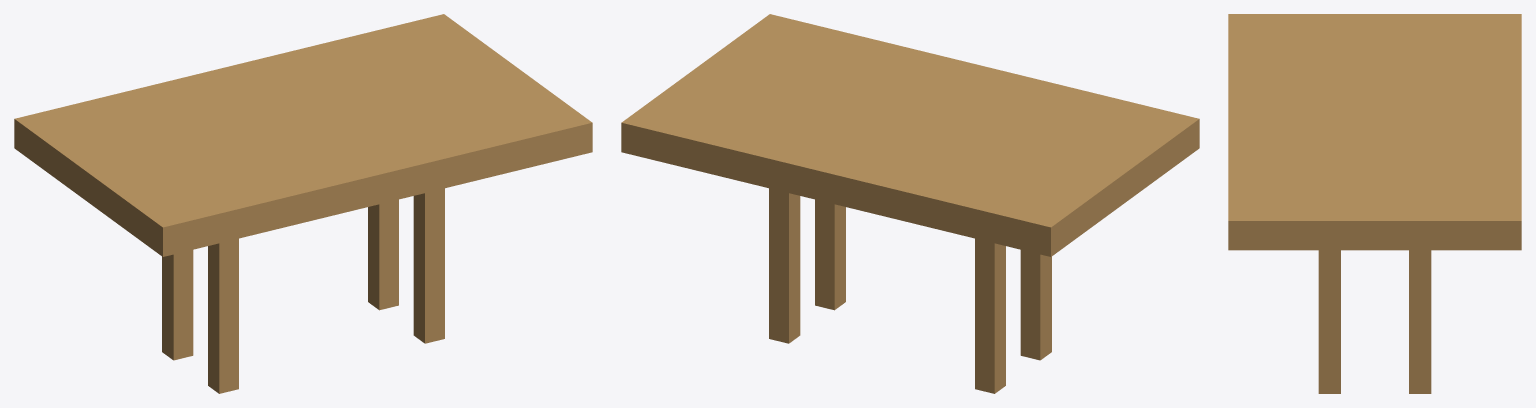
Rendered from Demo.obj.
The picture shows the model from 3 angles, left to right: view 1: azimuth 30°, elevation 25°; view 2: azimuth 150°, elevation 25°; view 3: azimuth 270°, elevation 25°; orthographic projection.
Parts seen in each view (by area): view 1: top.panel, leg_2, leg_1, leg_3, leg_4; view 2: top.panel, leg_4, leg_3, leg_1, leg_2; view 3: top.panel, leg_2, leg_4.
Boxes of the visible parts, left/top/right/bottom form: top.panel: left=14, top=14, right=592, bottom=256; leg_2: left=413, top=188, right=444, bottom=343; leg_1: left=208, top=238, right=238, bottom=393; leg_3: left=162, top=250, right=193, bottom=360; leg_4: left=368, top=199, right=398, bottom=310; top.panel: left=621, top=14, right=1199, bottom=256; leg_4: left=769, top=188, right=800, bottom=343; leg_3: left=975, top=238, right=1005, bottom=393; leg_1: left=1020, top=250, right=1051, bottom=360; leg_2: left=815, top=199, right=845, bottom=310; top.panel: left=1228, top=14, right=1521, bottom=250; leg_2: left=1318, top=250, right=1340, bottom=393; leg_4: left=1409, top=250, right=1431, bottom=393.
Size of the model in its own units: 1.52 by 0.76 by 0.91.
